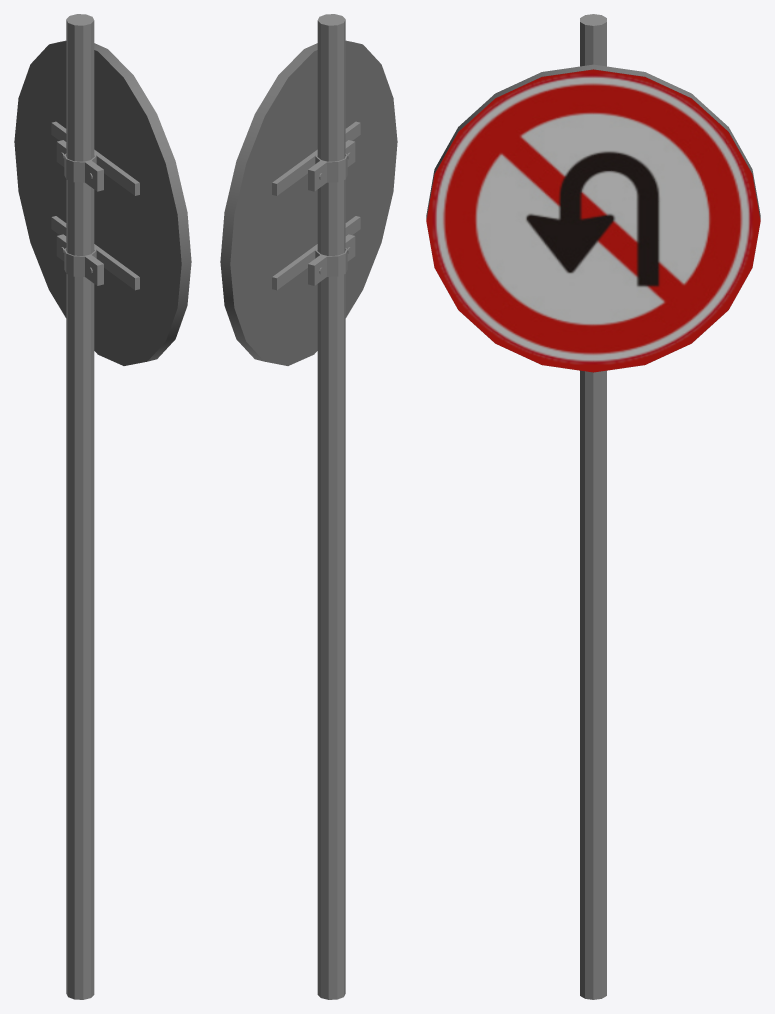
File: obj_sign_1.fbx
The picture shows the model from 3 angles, left to right: view 1: azimuth 30°, elevation 25°; view 2: azimuth 150°, elevation 25°; view 3: azimuth 270°, elevation 25°; orthographic projection.
Visible parts, largest first — view 1: obj_sign_1; view 2: obj_sign_1; view 3: obj_sign_1.
Boxes of the visible parts, bbox=[...] form: obj_sign_1: bbox=[14, 14, 191, 999]; obj_sign_1: bbox=[220, 14, 397, 999]; obj_sign_1: bbox=[426, 14, 760, 999].
Bounding box in the file's own units: 0.1068 × 2.39 × 0.7434.
1 material, 1 textured.
